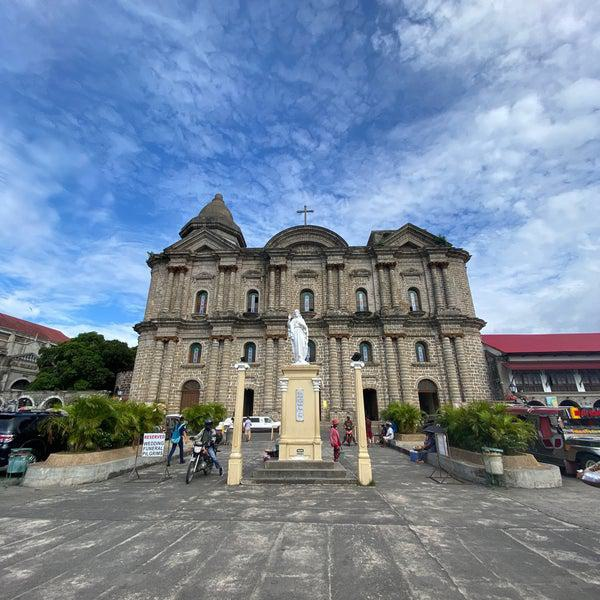taal_basilica_church_taal_batangas: (119, 180, 491, 443)
